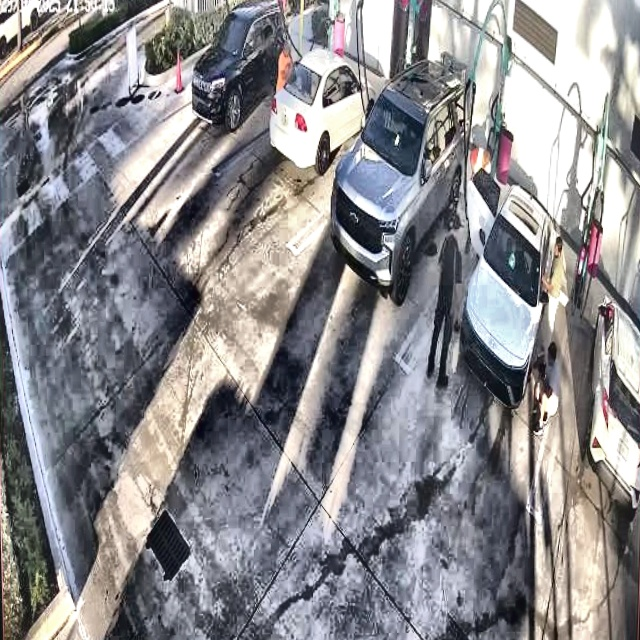Car: (332, 57, 470, 298), (462, 167, 555, 412), (270, 37, 375, 175)
